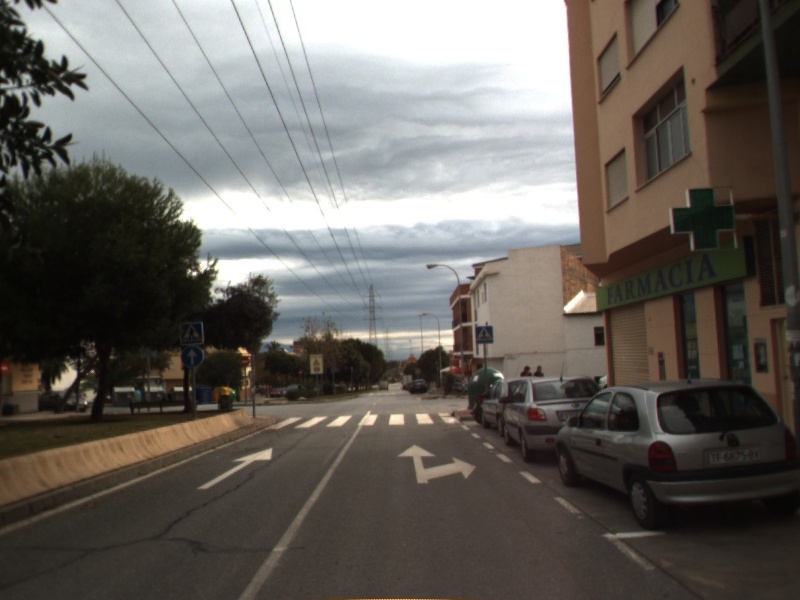STRAIGHT: (196, 446, 274, 491)
STRAIGHT_RIGHT: (395, 442, 479, 485)
